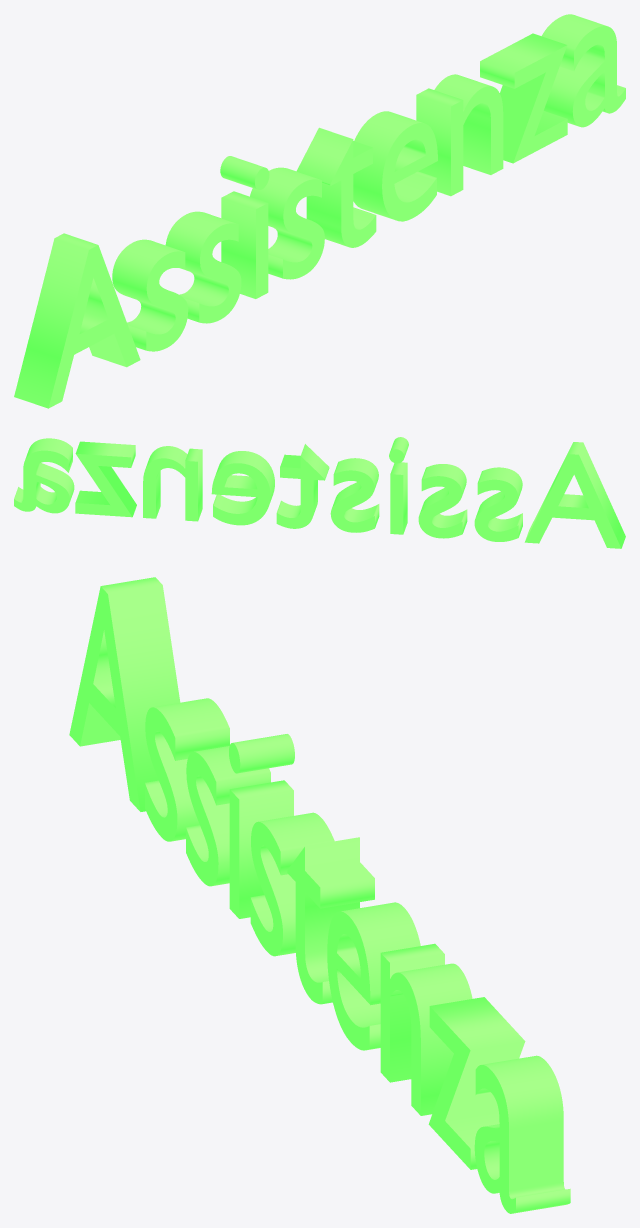
File: NewWebMenuAssistenza3.gltf
The picture shows the model from 3 angles, top to bottom: view 1: azimuth 30°, elevation 25°; view 2: azimuth 150°, elevation 25°; view 3: azimuth 270°, elevation 25°; orthographic projection. The views are drawn at different scales.
Parts seen in each view (by area): view 1: Assistenza; view 2: Assistenza; view 3: Assistenza.
Part boxes in pixels (left/top/right/bottom): Assistenza: left=14, top=14, right=625, bottom=408; Assistenza: left=14, top=437, right=625, bottom=548; Assistenza: left=69, top=577, right=570, bottom=1213.
Size of the model in its own units: 0.9838 by 0.1723 by 0.4228.
